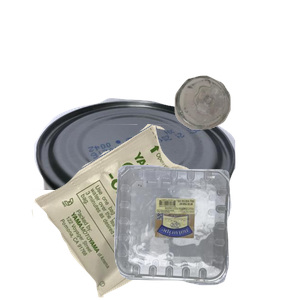glass: (172, 73, 300, 195)
metal: (16, 96, 244, 276)
plastic: (112, 162, 300, 300)
trash: (29, 124, 238, 300)
